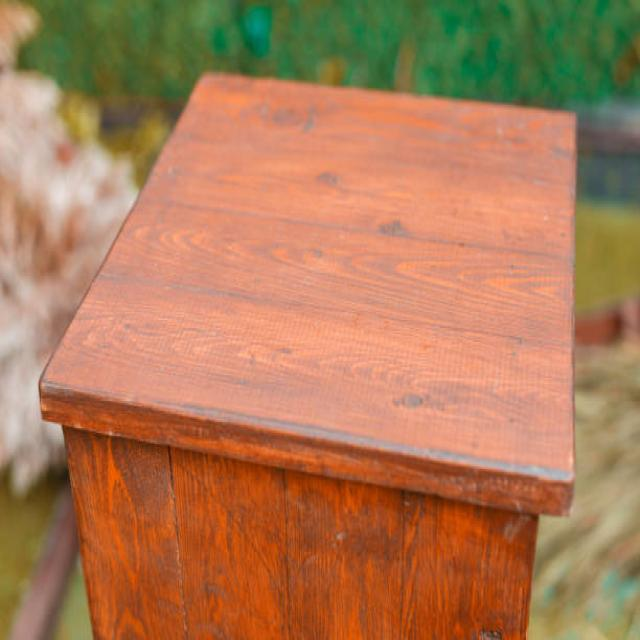table: (38, 67, 578, 638)
